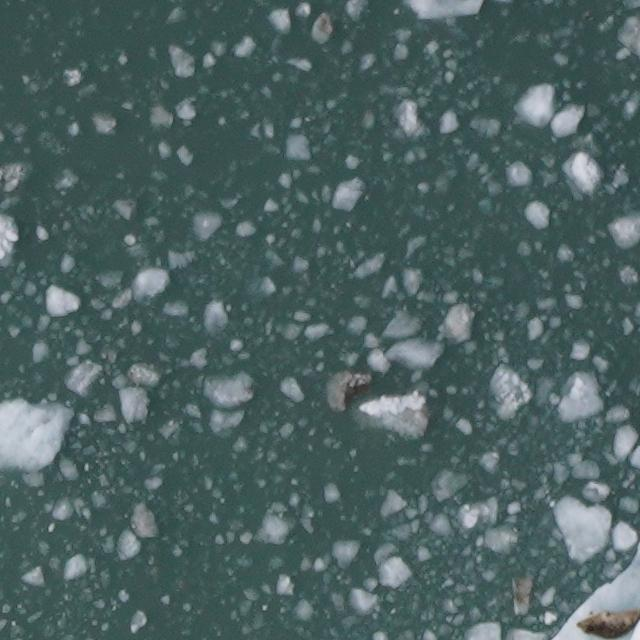seal: (572, 603, 640, 640)
